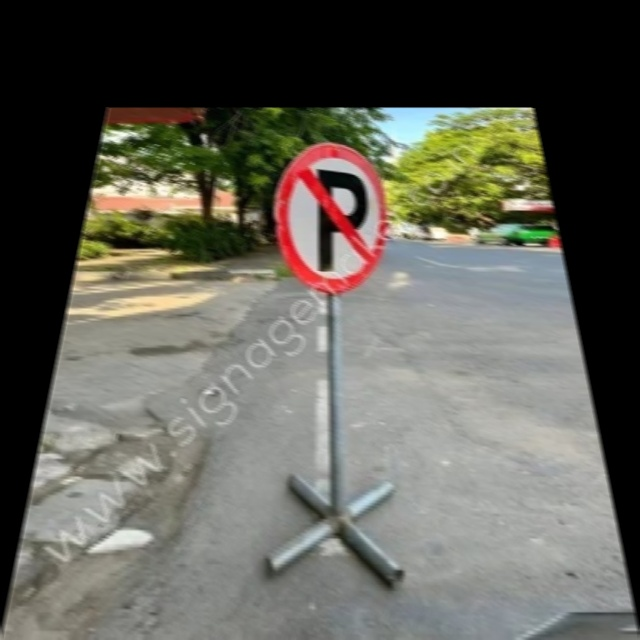No_Parking: (272, 141, 393, 293)
